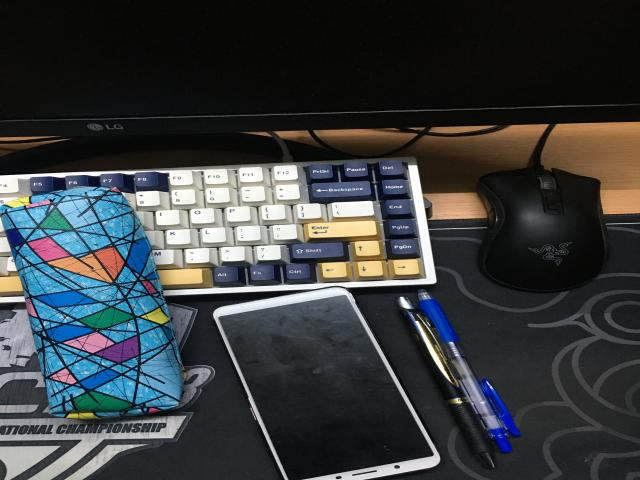Mobile phone: (213, 288, 440, 480)
Mouse: (477, 124, 608, 292)
Pen: (397, 294, 519, 463)
